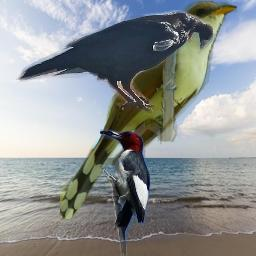Crow: (16, 10, 215, 113)
Cuckoo: (60, 1, 237, 219)
Woodpecker: (100, 129, 150, 256)
